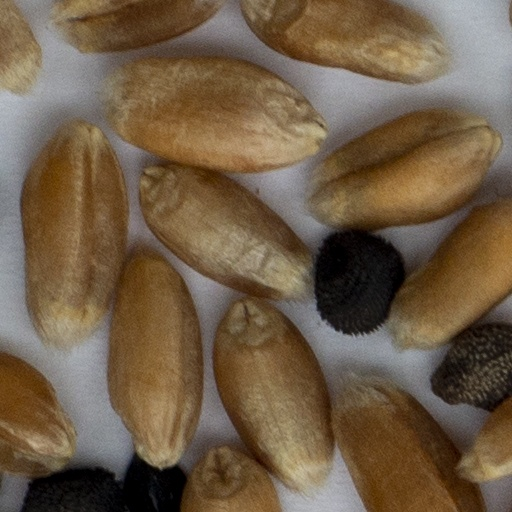Agrostemma-poly: (317, 232, 402, 334), (22, 471, 124, 511)
Convolvulus-poly: (433, 325, 511, 408)
Fallopia-Сonvolvulus-poly: (124, 459, 185, 511)
